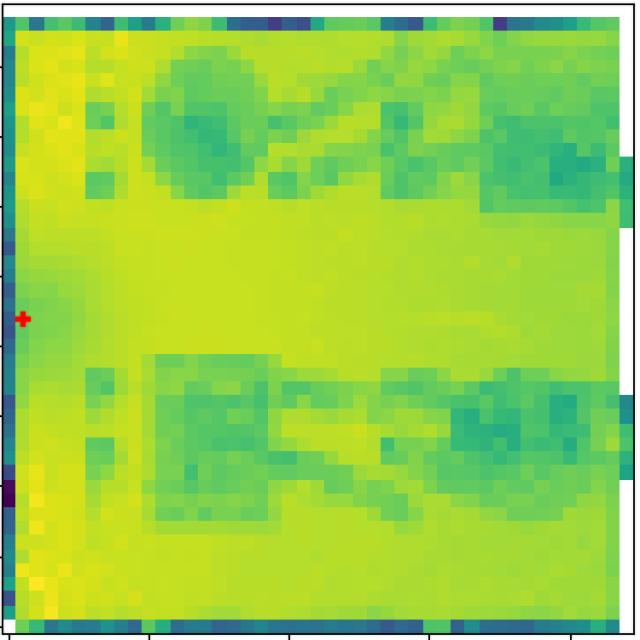Concrete: (469, 58, 613, 222), (144, 348, 149, 349)
Glass: (149, 43, 274, 209)
Metal: (462, 363, 588, 528)
Wood: (136, 352, 288, 532)
